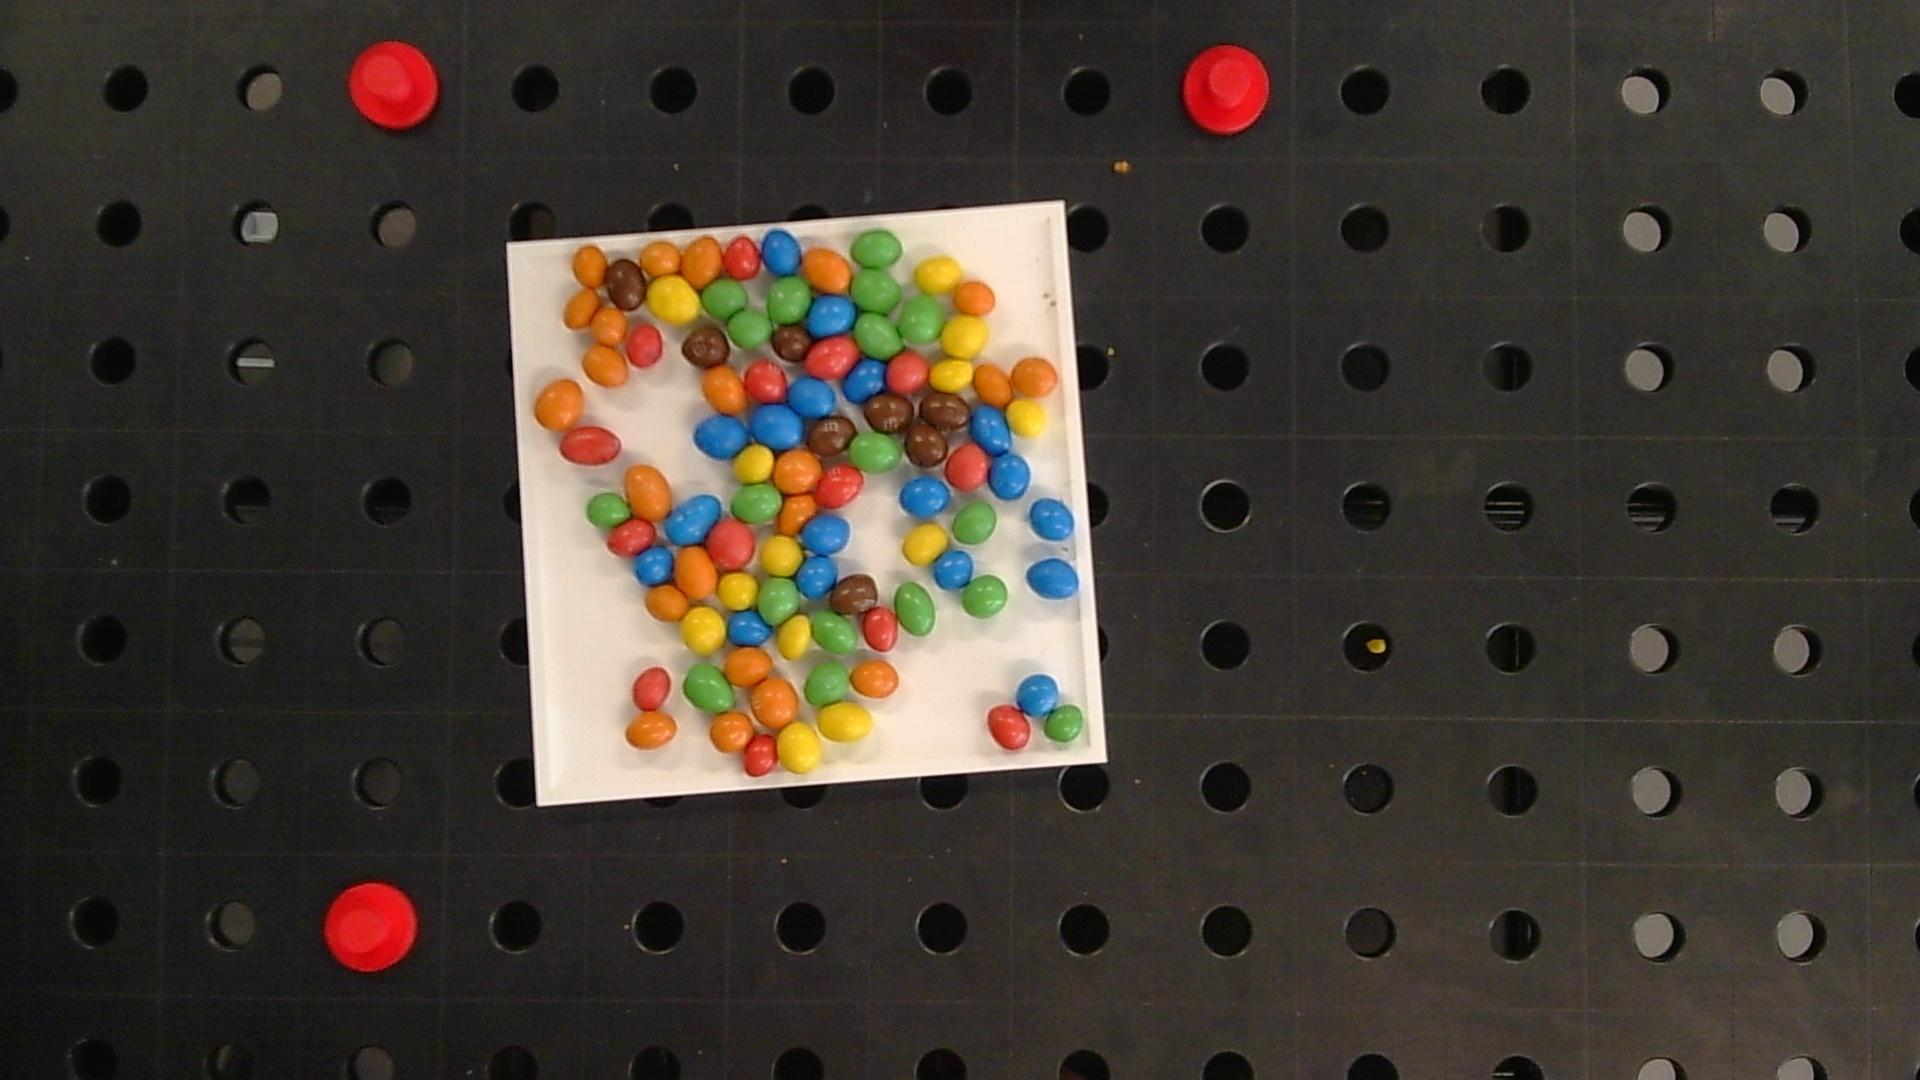blue: (667, 495, 721, 543), (695, 414, 748, 458), (750, 405, 803, 447), (1027, 559, 1079, 599), (901, 475, 949, 516), (806, 295, 856, 335), (1029, 498, 1073, 541), (761, 229, 802, 276), (971, 406, 1010, 454), (803, 514, 851, 554), (989, 454, 1030, 498), (1017, 674, 1060, 715), (843, 360, 886, 401), (787, 377, 833, 415), (796, 555, 837, 597), (728, 611, 771, 646), (934, 551, 973, 589), (636, 549, 674, 585)
brown: (607, 258, 645, 310), (906, 421, 947, 467), (682, 327, 729, 367), (864, 394, 913, 433), (920, 393, 969, 430), (833, 575, 878, 615), (808, 417, 855, 455), (774, 327, 812, 360)
green: (683, 665, 733, 711), (852, 268, 902, 313), (894, 583, 936, 636), (848, 431, 902, 472), (855, 314, 903, 359), (898, 297, 944, 342), (961, 575, 1009, 618), (732, 484, 783, 524), (811, 611, 857, 654), (851, 229, 903, 266), (758, 576, 799, 624), (767, 278, 811, 322), (804, 662, 849, 704), (953, 502, 997, 545), (702, 280, 748, 319), (728, 310, 773, 347), (1043, 705, 1085, 744), (587, 493, 630, 527)
orange: (625, 464, 673, 520), (534, 380, 583, 429), (750, 679, 798, 728), (803, 248, 852, 293), (675, 547, 717, 597), (703, 367, 746, 413), (680, 236, 721, 285), (1010, 357, 1059, 397), (774, 450, 820, 491), (625, 713, 678, 749), (583, 345, 628, 386), (851, 661, 899, 698), (724, 647, 770, 686), (709, 712, 753, 752), (973, 363, 1011, 406), (646, 585, 690, 620), (563, 289, 600, 327), (572, 245, 607, 286), (955, 282, 997, 315), (591, 307, 626, 344), (781, 495, 816, 531), (641, 243, 679, 276)
red: (559, 426, 621, 464), (707, 520, 754, 567), (806, 336, 858, 378), (814, 465, 864, 508), (986, 704, 1031, 749), (947, 444, 989, 489), (607, 518, 655, 555), (745, 361, 787, 401), (632, 667, 671, 709), (723, 236, 761, 278), (886, 353, 928, 392), (862, 607, 898, 651), (626, 326, 663, 367), (742, 736, 778, 775)
yellow: (647, 276, 699, 323), (816, 703, 873, 741), (777, 723, 820, 771), (682, 608, 725, 653), (942, 316, 988, 359), (902, 524, 948, 564), (915, 257, 961, 293), (762, 535, 803, 575), (1007, 400, 1047, 438), (735, 446, 774, 481), (719, 574, 757, 609), (778, 617, 811, 658), (930, 360, 972, 392)
